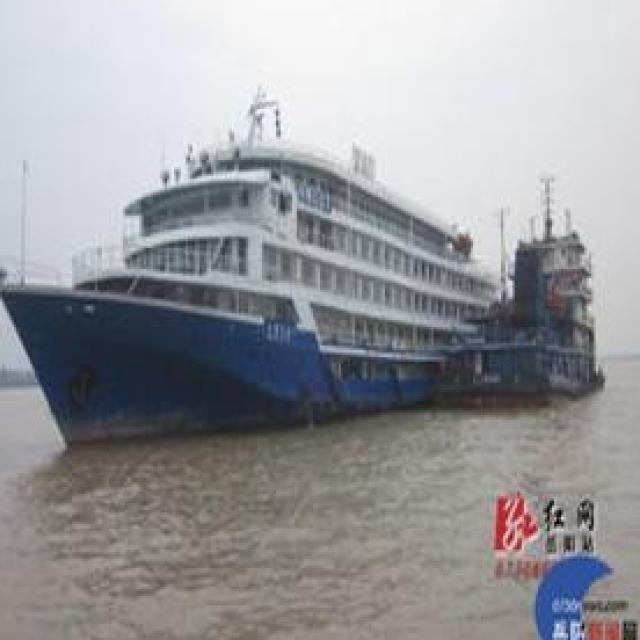passenger ship: (0, 95, 501, 443)
